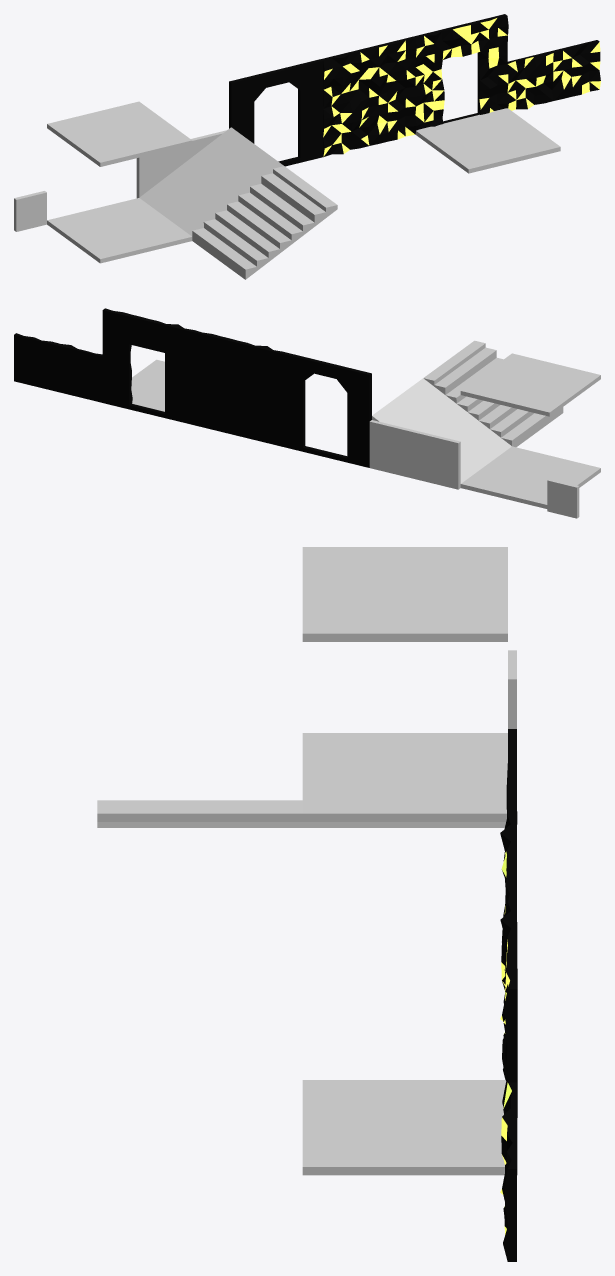
File: Set_Modular_design.fbx
3 views of the same model, one above another, from view 1: azimuth 30°, elevation 25°; view 2: azimuth 150°, elevation 25°; view 3: azimuth 270°, elevation 25° (orthographic). The views are drawn at different scales.
Parts seen in each view (by area): view 1: Wall_design, Stairs, Slope, Wall_design_door, Floor, Ceiling, Floor.001, Wall_door, Half_wall_design.003, Half_Wall, Wall_Segmented; view 2: Wall_design, Wall_design_door, Wall_door, Slope, Ceiling, Stairs, Floor, Half_Wall, Half_wall_design.003, Floor.001, Wall_Segmented; view 3: Ceiling, Floor.001, Floor, Stairs, Slope, Wall_design_door, Half_wall_design.003, Wall_design.
Part boxes in pixels (x1,y1,x2,y2): Wall_design: [321, 36, 416, 156]; Stairs: [192, 166, 337, 279]; Slope: [139, 127, 283, 236]; Wall_design_door: [413, 14, 508, 130]; Floor: [47, 198, 192, 263]; Ceiling: [47, 101, 192, 166]; Floor.001: [415, 108, 560, 173]; Wall_door: [229, 59, 323, 166]; Half_wall_design.003: [507, 40, 600, 110]; Half_Wall: [136, 130, 226, 198]; Wall_Segmented: [14, 191, 46, 231]; Wall_design: [191, 330, 282, 446]; Wall_design_door: [102, 308, 193, 424]; Wall_door: [280, 351, 371, 467]; Slope: [372, 378, 511, 483]; Ceiling: [460, 353, 600, 416]; Stairs: [423, 340, 563, 447]; Floor: [460, 446, 600, 508]; Half_Wall: [369, 420, 460, 489]; Half_wall_design.003: [14, 333, 102, 402]; Floor.001: [131, 359, 164, 411]; Wall_Segmented: [547, 479, 579, 518]; Ceiling: [302, 547, 507, 641]; Floor.001: [302, 1080, 506, 1175]; Floor: [302, 733, 507, 813]; Stairs: [97, 800, 302, 827]; Slope: [302, 813, 506, 827]; Wall_design_door: [500, 902, 517, 1174]; Half_wall_design.003: [500, 1082, 516, 1261]; Wall_design: [500, 815, 516, 1079].
Size of the model in its own units: 3800 by 627 by 1229.
